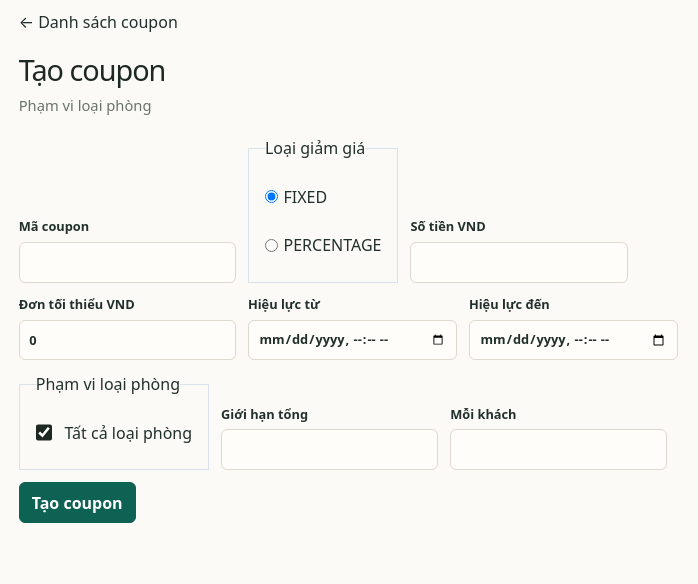
CouponForm admin authority and request contract › maps a duplicate-code 409 to a safe Vietnamese message and never retries automatically
Type "DUPLICATE-CODE" into the field labelled "Mã coupon" at coordinates (127, 262), box [19,242,236,283]
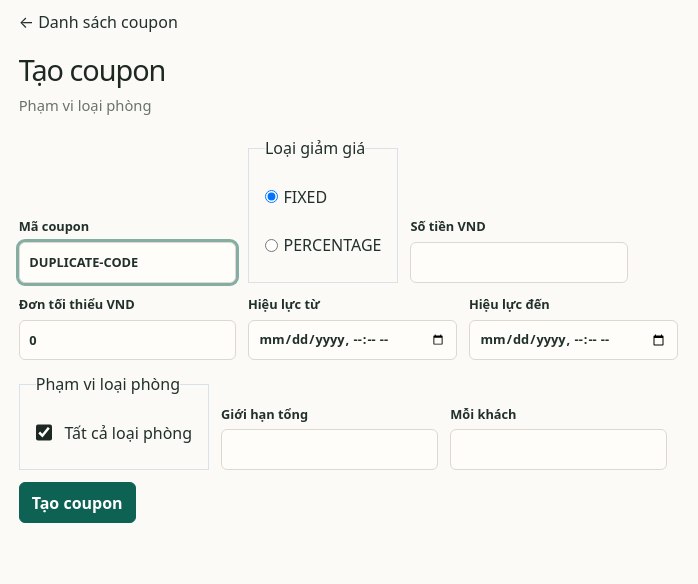
Type "2027-06-01T10:00" into the field labelled "Hiệu lực từ" at coordinates (352, 340), box [248,320,457,360]
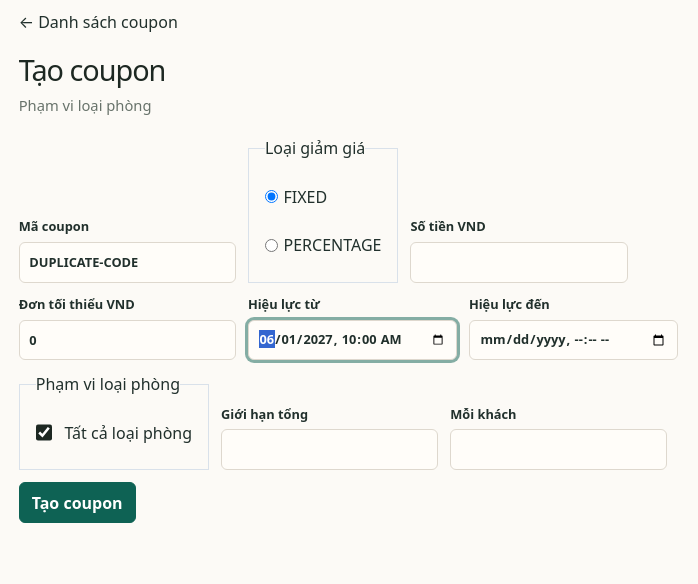
Type "2027-12-31T10:00" into the field labelled "Hiệu lực đến" at coordinates (573, 340), box [469,320,678,360]
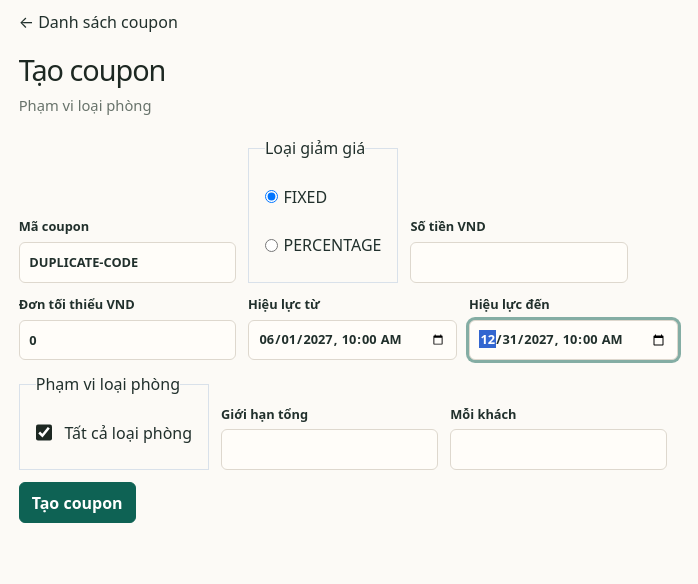
Type "50000" into the number field labelled "Số tiền VND" at coordinates (519, 262), box [410,242,628,283]
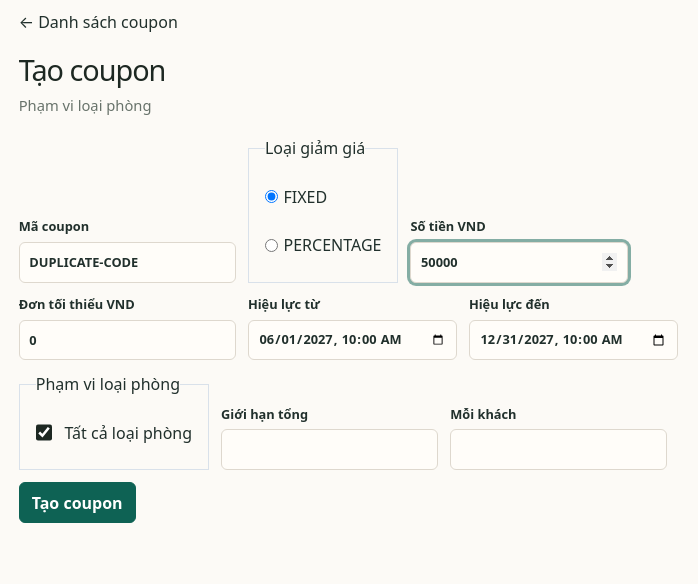
Click the button "Tạo coupon" at coordinates (77, 503), box [19,482,136,523]
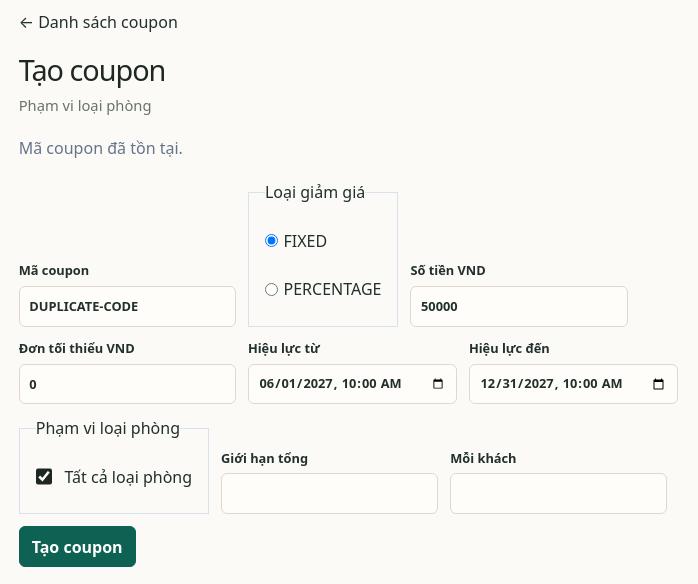
Result: the message shows "Mã coupon đã tồn tại" at [19,137,183,159]
